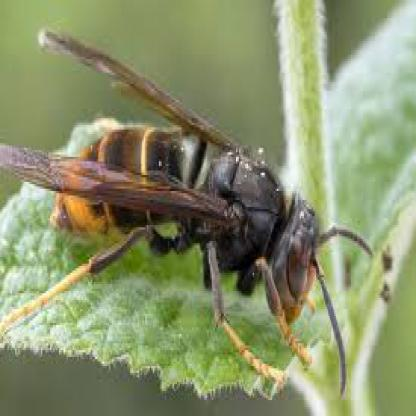asian: (12, 29, 374, 388)
